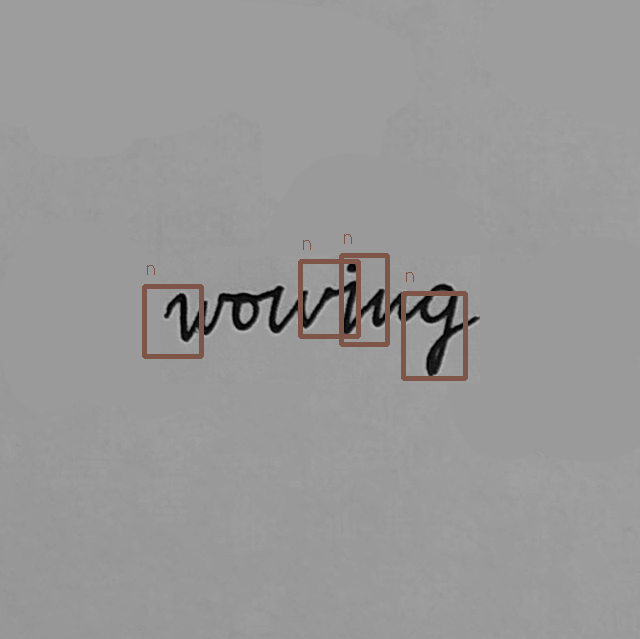g: (414, 281, 460, 378)
i: (336, 259, 363, 339)
n: (368, 285, 411, 329)
o: (229, 288, 262, 335)
w: (264, 281, 333, 335), (174, 286, 227, 343)
